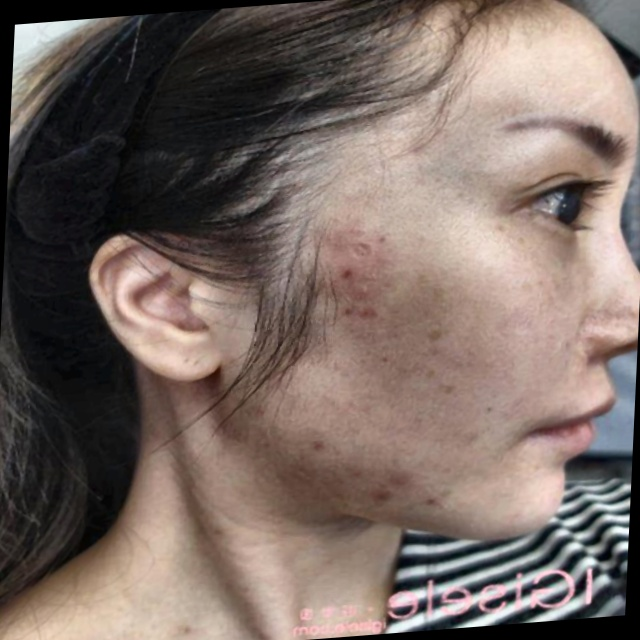comedone: (353, 223, 382, 249), (378, 462, 407, 484), (338, 260, 372, 278)
